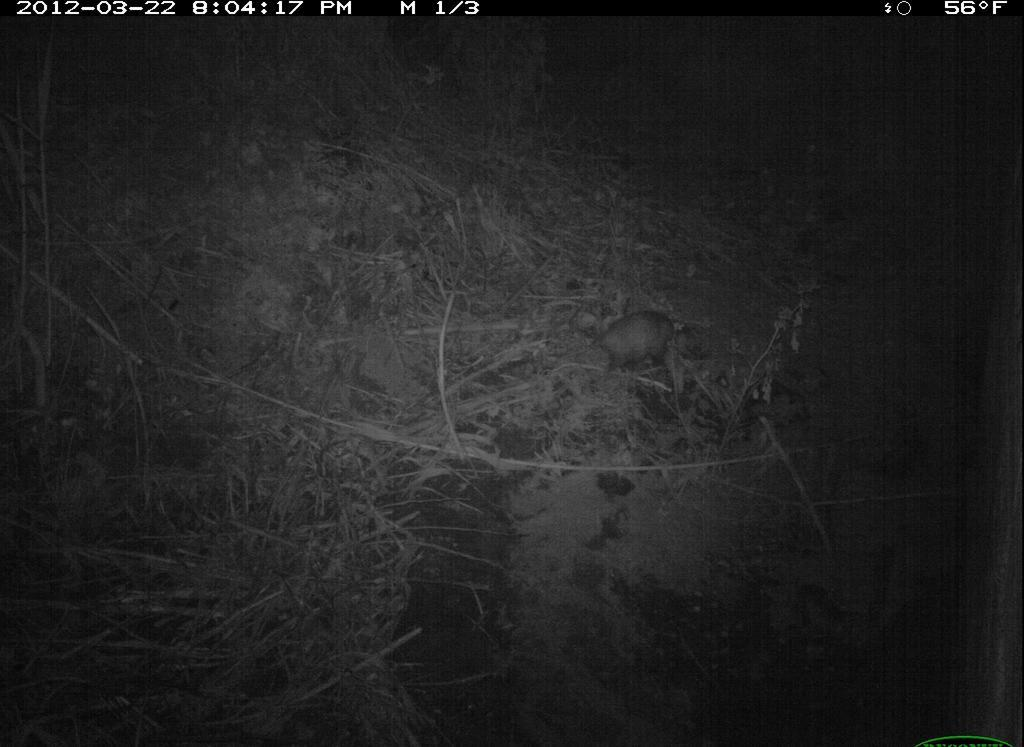opossum: (590, 308, 679, 376)
